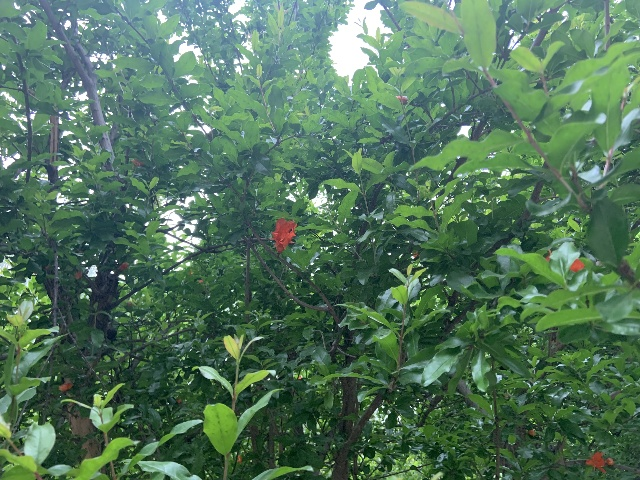bud: (58, 383, 73, 391), (396, 95, 407, 103), (606, 457, 614, 465)
flower: (270, 217, 297, 252), (584, 451, 605, 472), (131, 158, 144, 167)
